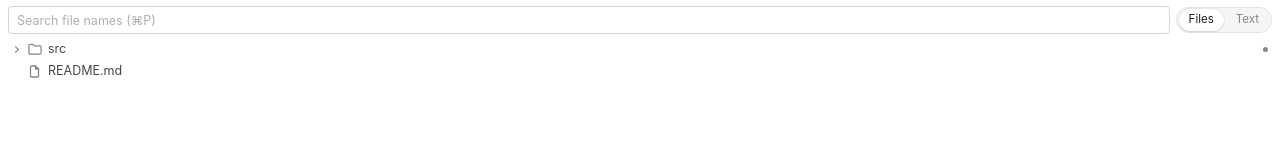
Test: FilesTab › marks folders with changes and expands them lazily
expect the element named "Contains changes" is shown: met, box [1263,46,1268,52]
Click the button "src".
click(16, 49)  # box [4,38,1276,60]
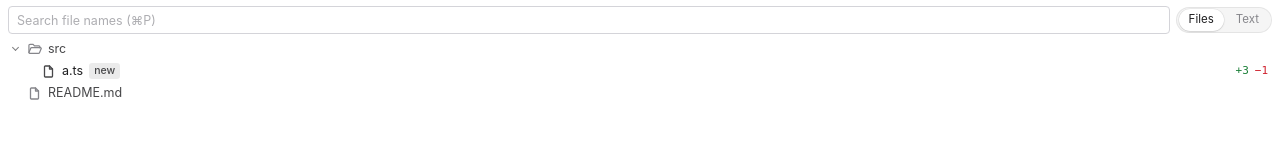
expect the text "a.ts" is shown: met, box [62,62,83,80]
expect the text "new" is shown: met, box [89,63,120,79]
